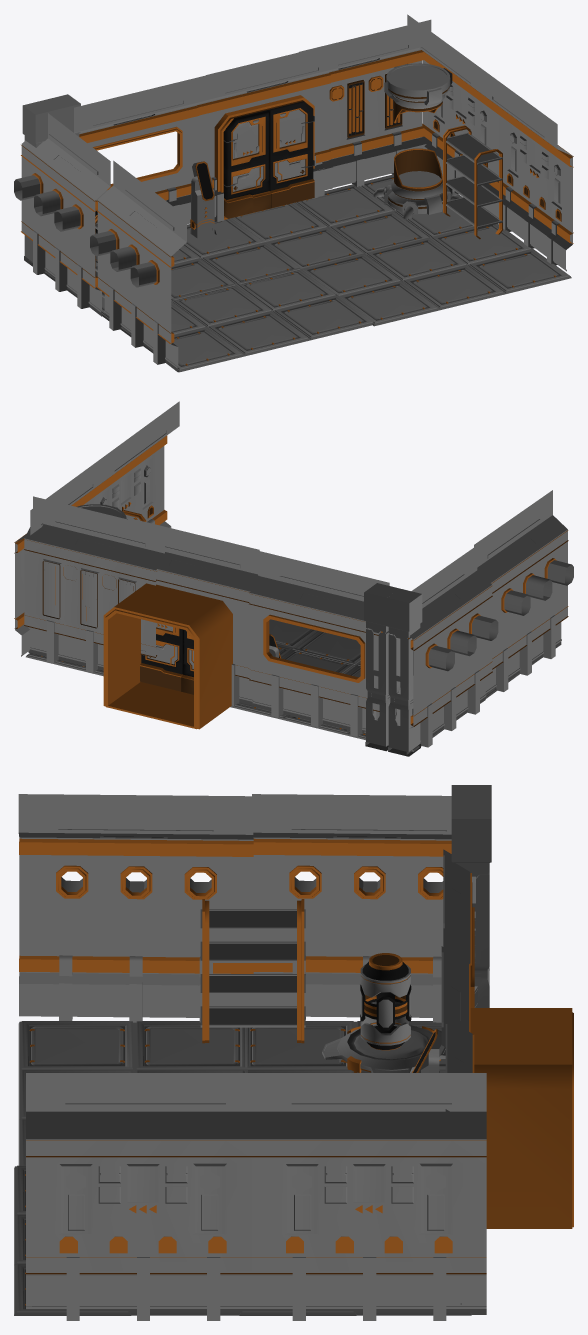
File: scifi_room_a.obj
3 views of the same model, one above another, from view 1: azimuth 30°, elevation 25°; view 2: azimuth 150°, elevation 25°; view 3: azimuth 270°, elevation 25° (orthographic). The views are drawn at different scales.
Visible parts, largest first — view 1: Object_8, Object_9, Object_3, Object_6, Object_5, Object_4, Object_2; view 2: Object_8, Object_3, Object_9, Object_5, Object_6, Object_4; view 3: Object_8, Object_3, Object_9, Object_6, Object_4.
Part boxes in pixels (box(x1,y1,x2,y2)): Object_8: box(14, 14, 572, 368); Object_9: box(69, 195, 473, 372); Object_3: box(21, 50, 573, 365); Object_6: box(24, 58, 561, 372); Object_5: box(191, 73, 560, 227); Object_4: box(95, 82, 400, 262); Object_2: box(191, 176, 214, 238); Object_8: box(15, 401, 573, 752); Object_3: box(14, 435, 568, 734); Object_9: box(276, 630, 541, 720); Object_5: box(42, 507, 193, 694); Object_6: box(28, 539, 561, 756); Object_4: box(141, 628, 279, 677); Object_8: box(14, 785, 491, 1320); Object_3: box(19, 838, 573, 1305); Object_9: box(18, 1021, 356, 1315); Object_6: box(24, 836, 486, 1314); Object_4: box(360, 961, 435, 1072).
Bounding box in the file's own units: 14 × 4.92 × 10.42.
